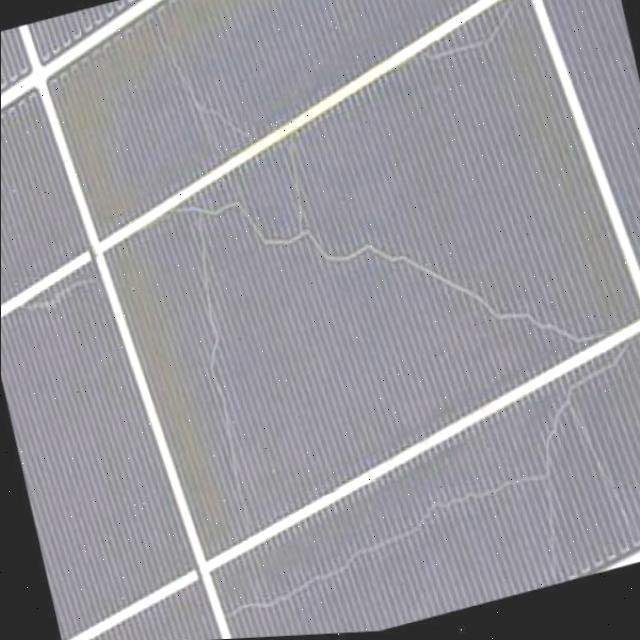Anomaly Solar Panel: (0, 0, 640, 640)
Structural Damage: (177, 115, 606, 428), (211, 455, 546, 630), (500, 328, 631, 572), (179, 213, 244, 518), (137, 55, 256, 168), (16, 271, 99, 317)
